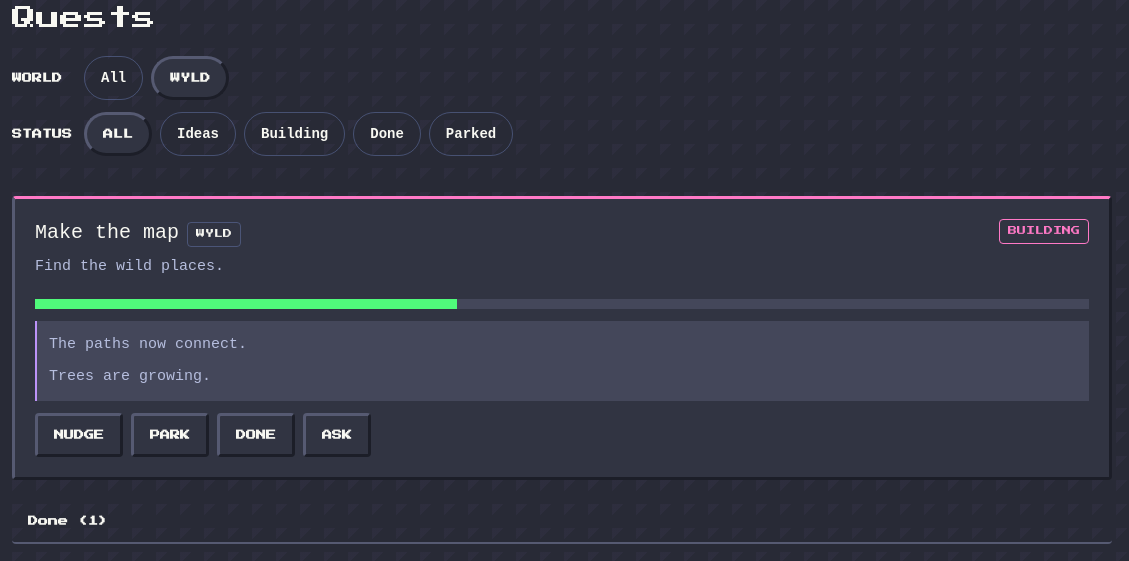
Test case: Quests › shows completed quests expanded when Done is selected
This screenshot has width=1129, height=561.
Expected: the button "Done (1)" is shown, [12,500,1112,544]
Click the button "Done" in the row of "Status" at (387, 134), box [353,112,421,156]
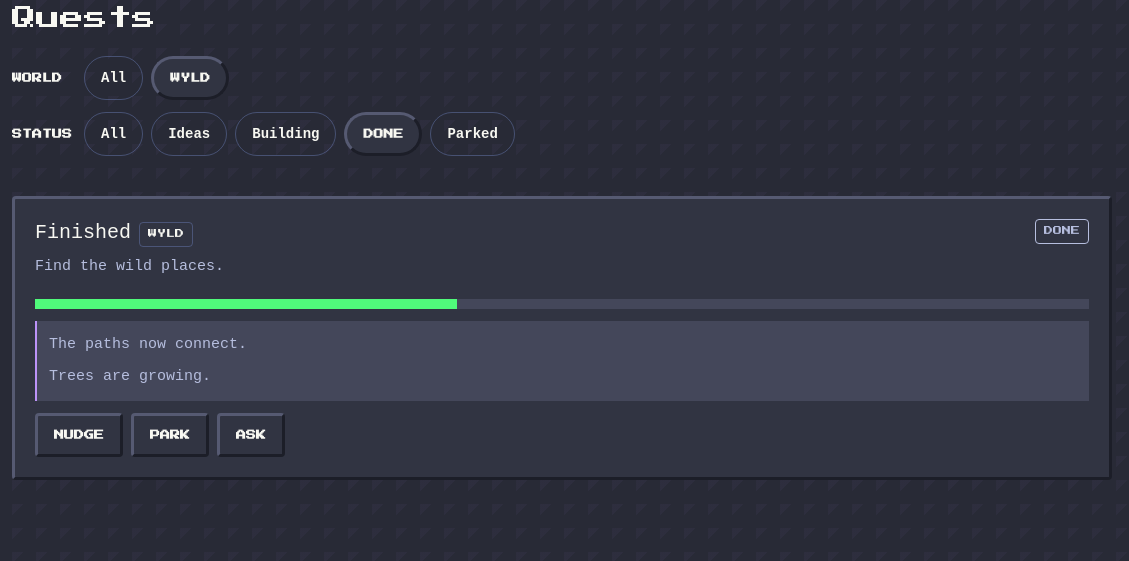
Result: the heading "Finished" is shown at [35,219,131,246]
Result: the button "Done (1)" is gone
